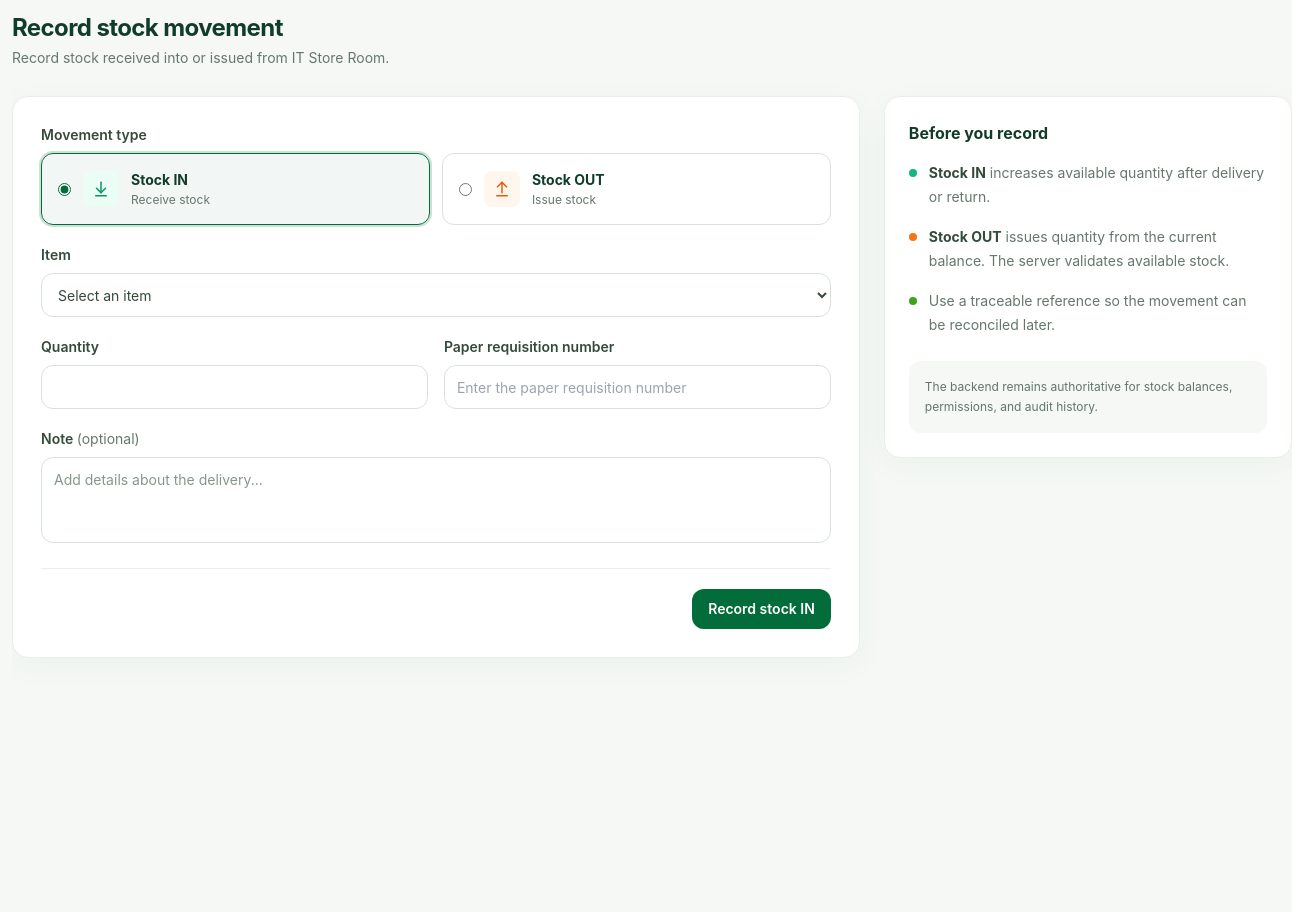
Scenario: inventory pages › reports backend movement errors
Select "Business laptop (IT-LAP-001)" in the dropdown labelled "Item": x=436, y=295 [41, 273, 831, 317]
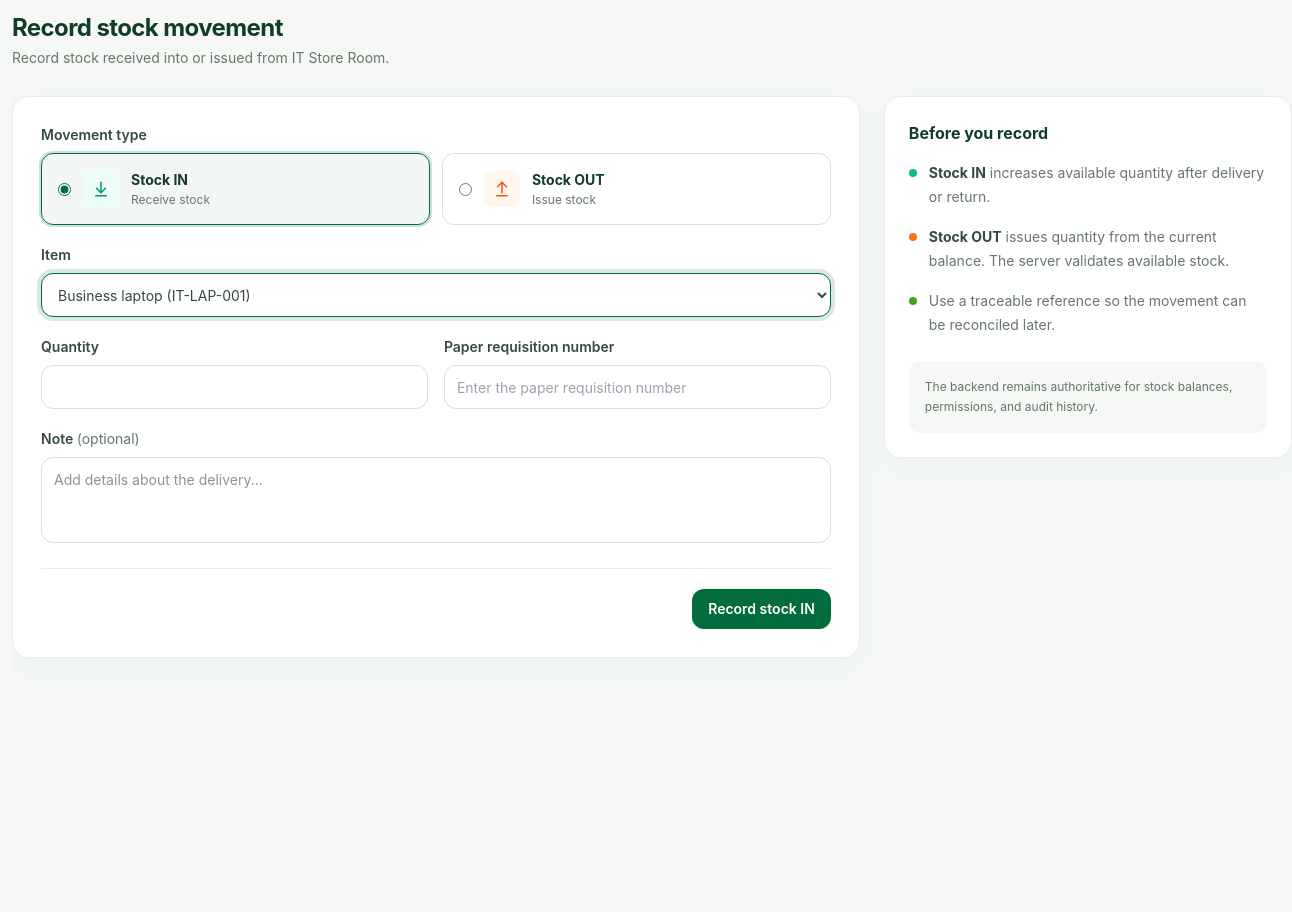
In the number field labelled "Quantity": x=234, y=387 [41, 365, 428, 409], type "30"
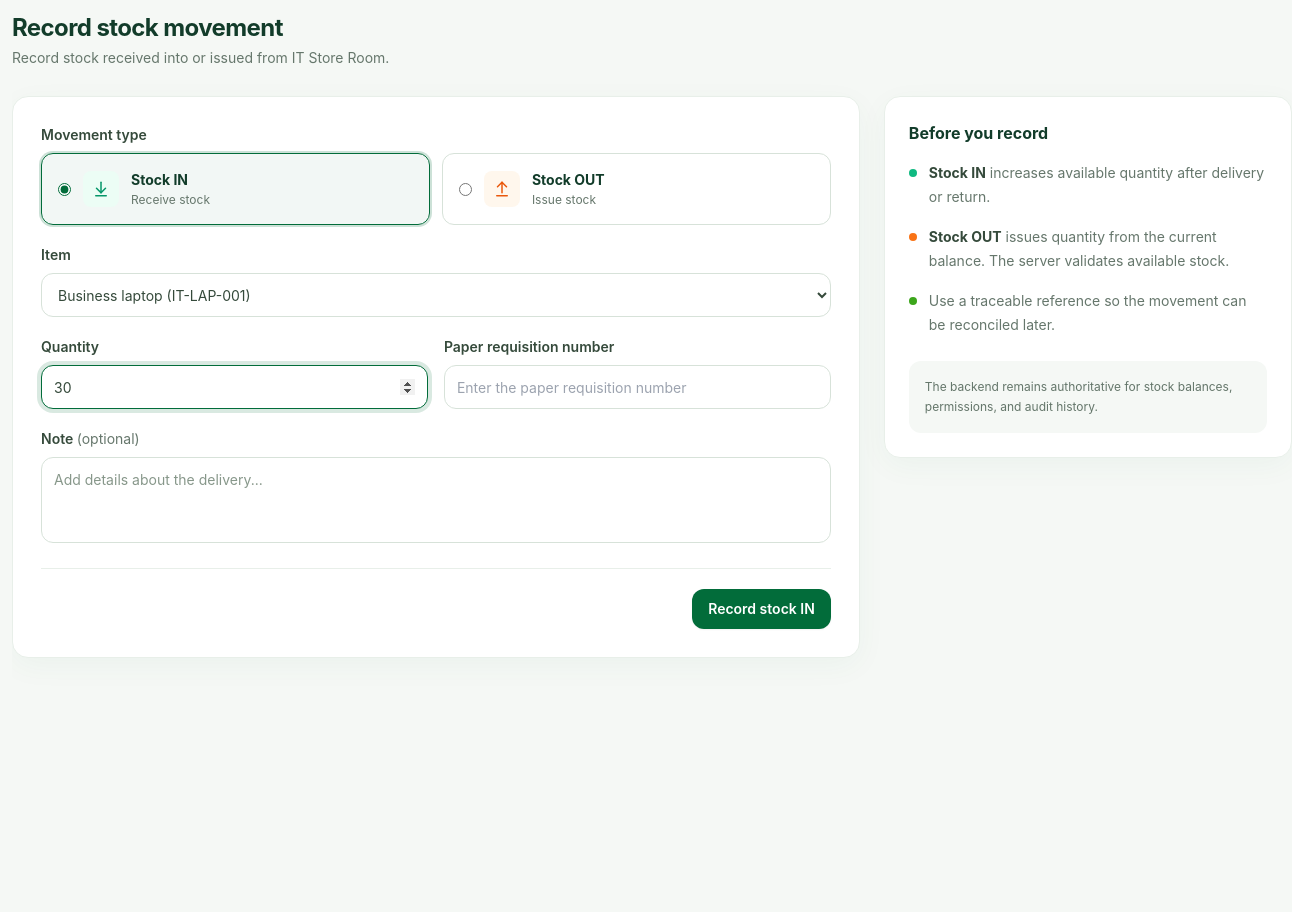
In the field labelled "Paper requisition number": x=637, y=387 [444, 365, 831, 409], type "REQ-TEST"
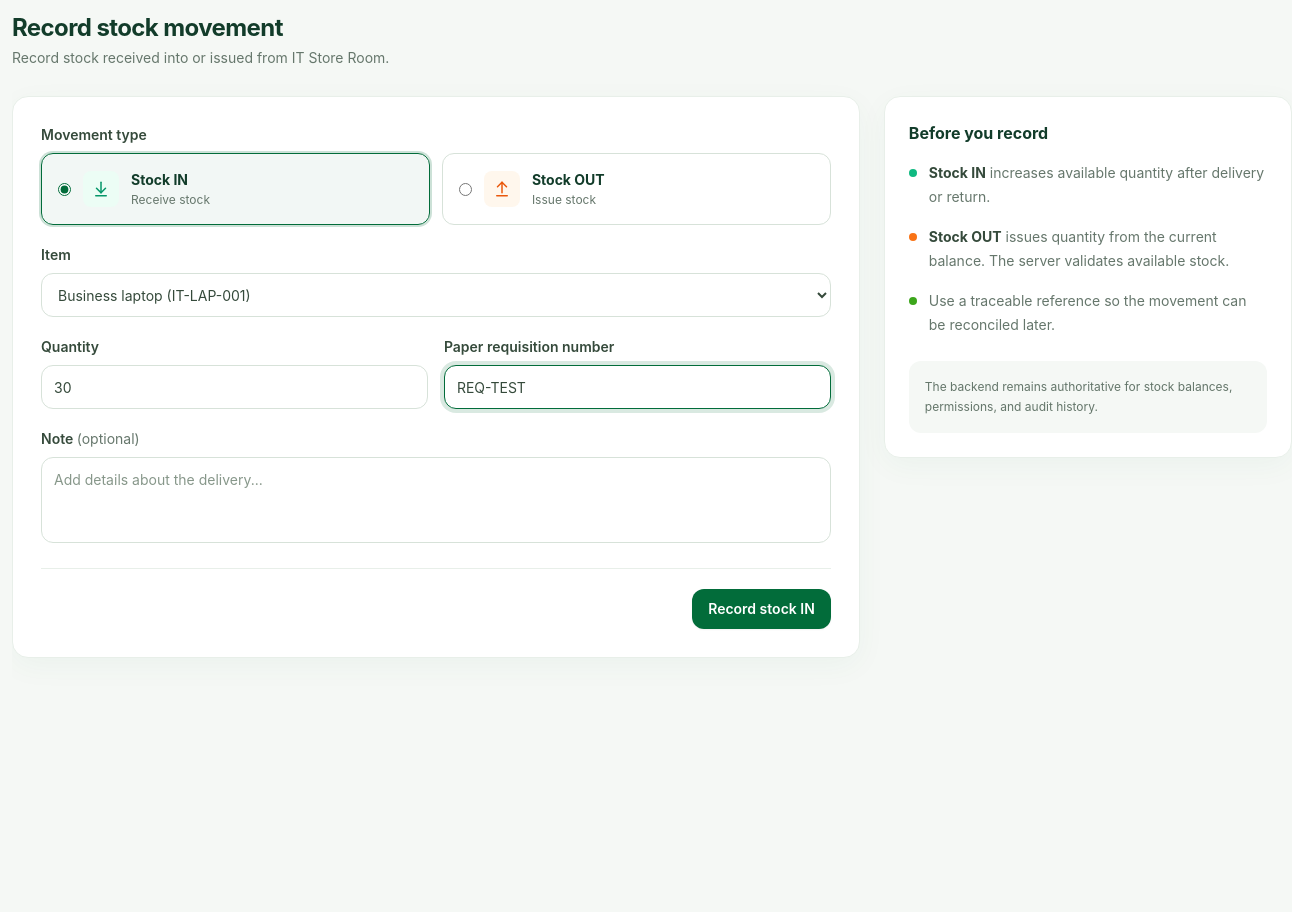
Click the button "Record stock IN": x=762, y=609 [692, 589, 831, 629]
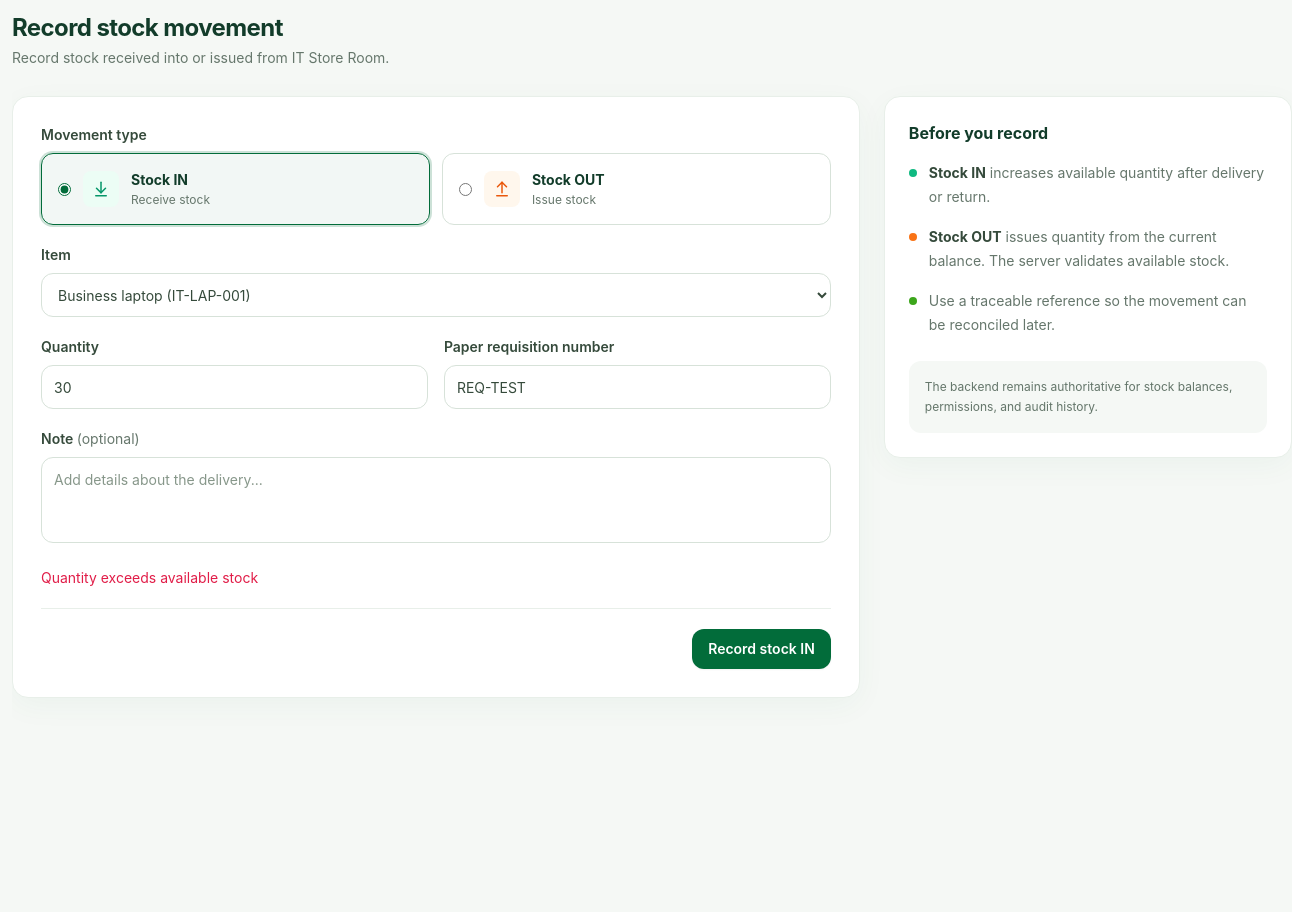
Expected: the message reads "Quantity exceeds available stock", [41, 569, 258, 586]
